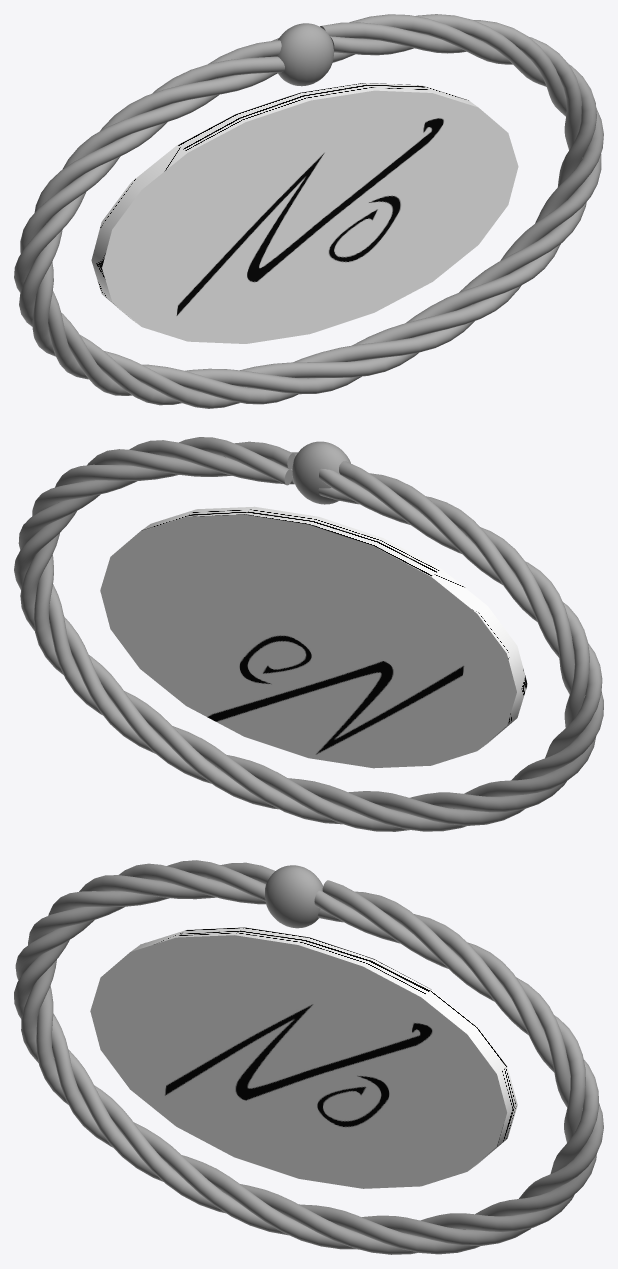
Rendered from sign - no.fbx.
3 renders of one model, top to bottom at view 1: azimuth 30°, elevation 25°; view 2: azimuth 150°, elevation 25°; view 3: azimuth 330°, elevation 25°, orthographic.
Visible parts, largest first — view 1: polySurface12; view 2: polySurface12; view 3: polySurface12.
Part boxes in pixels (left/top/right/bottom): polySurface12: left=14, top=14, right=603, bottom=408; polySurface12: left=14, top=437, right=603, bottom=831; polySurface12: left=14, top=860, right=603, bottom=1254.
Size of the model in its own units: 44.55 by 27.21 by 3.49.
4 materials, 2 textured.
